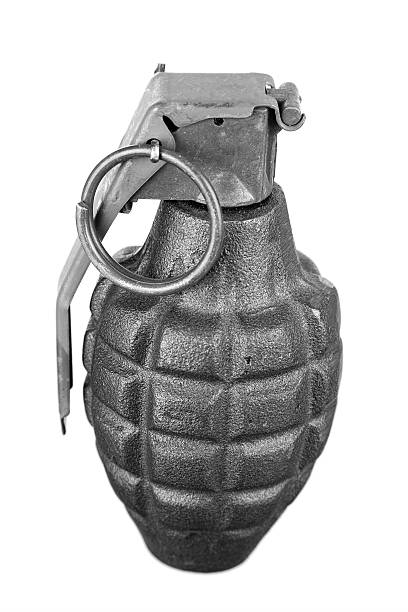e1: (53, 67, 344, 577)
